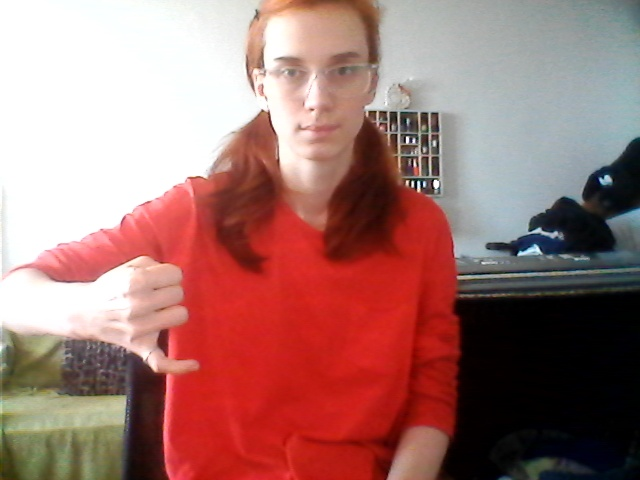j: (98, 245, 219, 383)
